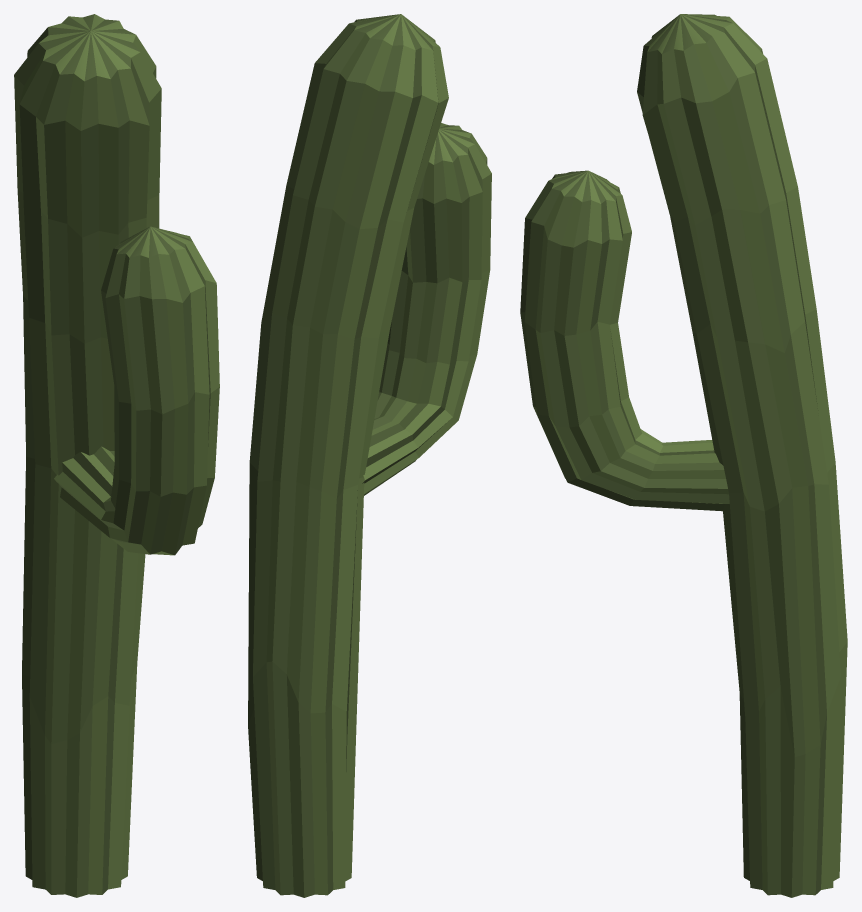
The model's file is Cactus-2.fbx.
The picture shows the model from 3 angles, left to right: view 1: azimuth 30°, elevation 25°; view 2: azimuth 150°, elevation 25°; view 3: azimuth 270°, elevation 25°; orthographic projection. The views are drawn at different scales.
Parts seen in each view (by area): view 1: SM_Env_Cactus_02; view 2: SM_Env_Cactus_02; view 3: SM_Env_Cactus_02.
Boxes of the visible parts, x1,y1,x2,y2 form: SM_Env_Cactus_02: (14,14,219,897); SM_Env_Cactus_02: (248,14,491,897); SM_Env_Cactus_02: (520,14,847,897).
Size of the model in its own units: 42.09 by 225 by 79.22.
